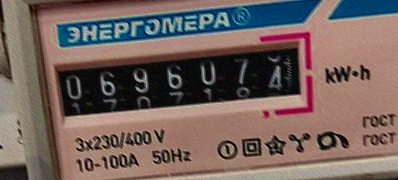0: (62, 70, 86, 100), (198, 54, 219, 85), (98, 67, 117, 94)
4: (265, 61, 285, 91)
6: (164, 58, 184, 89)
7: (231, 52, 252, 83)
9: (131, 63, 151, 92)
screen: (39, 25, 320, 135)
